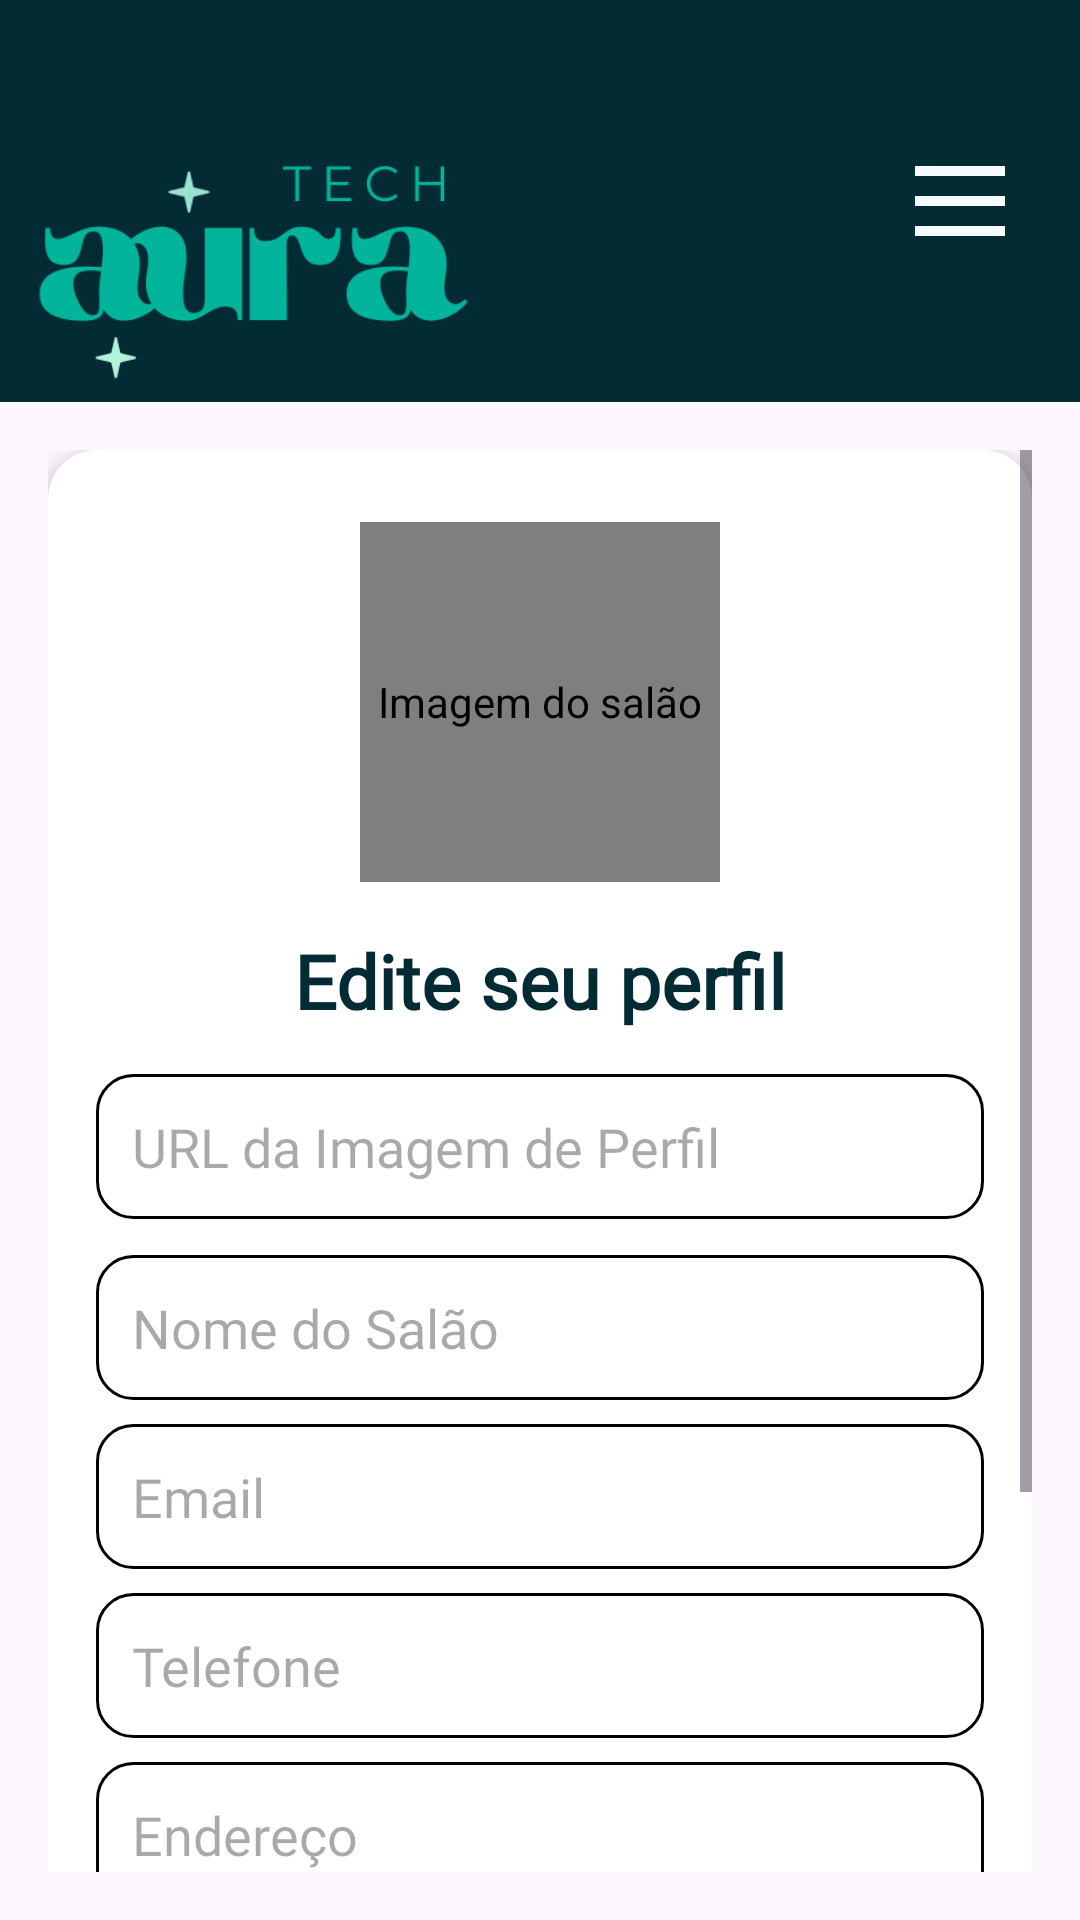

Point at icon controls on the screen. Image size 1080w x 1920h, points as [x,y].
Menu: [960,201]
